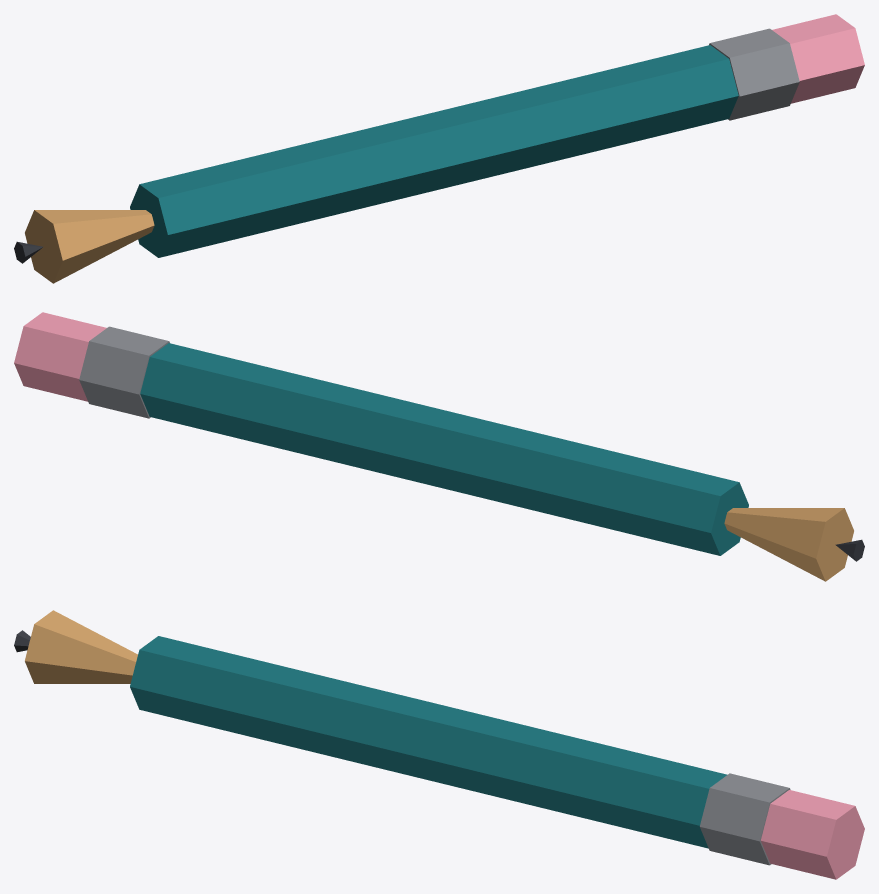
The model's file is pencil.glb.
3 renders of one model, top to bottom at view 1: azimuth 30°, elevation 25°; view 2: azimuth 150°, elevation 25°; view 3: azimuth 330°, elevation 25°, orthographic.
Visible parts, largest first — view 1: pencil; view 2: pencil; view 3: pencil.
Boxes of the visible parts, x1,y1,x2,y2 form: pencil: [14, 14, 864, 283]; pencil: [14, 312, 864, 581]; pencil: [14, 610, 864, 879].
Size of the model in its own units: 0.275 by 0.02 by 0.0231.
